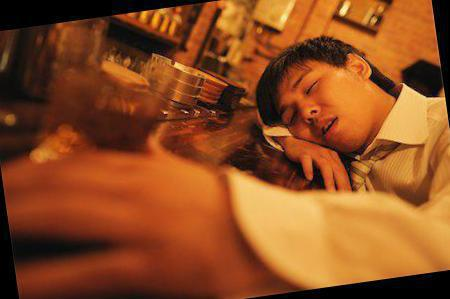Drunk: (279, 53, 361, 147)
